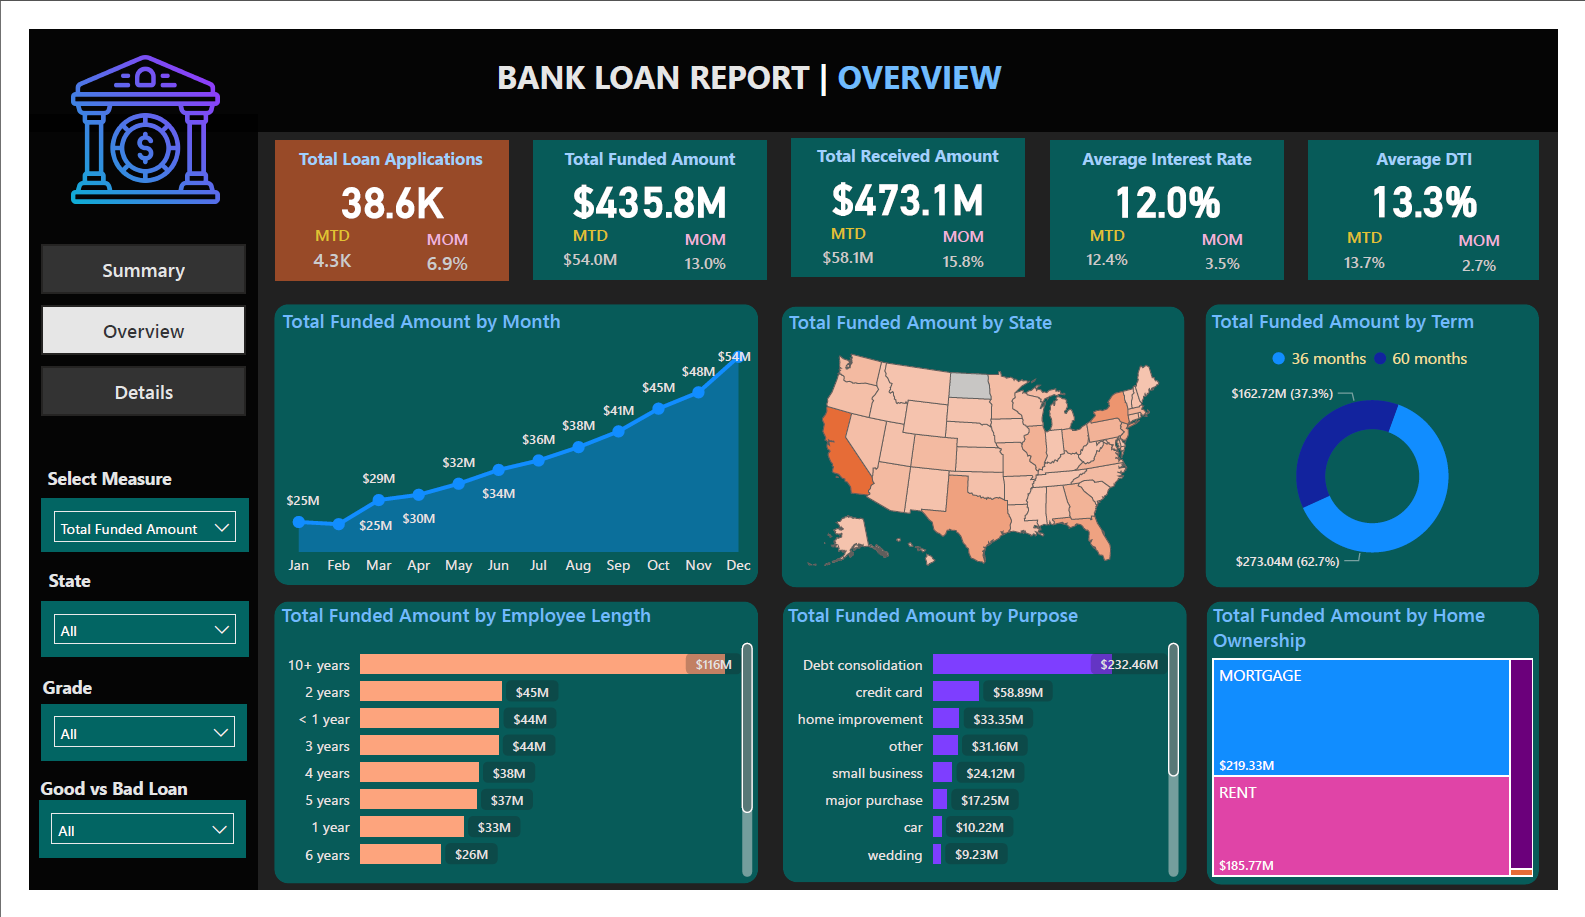

This screenshot's page, from the dashboard's own definition file:
{"tool":"powerbi","page":{"name":"Overview","canvas":[1280,720],"ordinal":1},"visuals":[{"type":"shape","box":[0,70.7,191.4,649.1],"z":0},{"type":"shape","box":[638.4,91.4,194.5,116.4],"z":0,"group":"g3"},{"type":"shape","box":[422.1,92.8,194.5,116.4],"z":0,"group":"g2"},{"type":"shape","box":[854.7,92.8,194.5,116.4],"z":0,"group":"g4"},{"type":"shape","box":[205.8,93.1,194.5,116.4],"z":0,"group":"g1"},{"type":"shape","box":[1070.9,93.2,192.6,116],"z":0,"group":"g5"},{"type":"slicer","fields":{"Values":["financial_loan.address_state"]},"box":[9.7,478.5,172.6,46.6],"z":0,"group":"g6"},{"type":"slicer","fields":{"Values":["financial_loan.grade"]},"box":[9.6,564.4,172.6,46.6],"z":0,"group":"g7"},{"type":"slicer","fields":{"Values":["financial_loan.Good v Bad Loan"]},"box":[8.6,646.7,172.6,46.6],"z":0,"group":"g8"},{"type":"shape","box":[0,0,1280.6,85],"z":1000},{"type":"card","fields":{"Values":["financial_loan.Avg DTI"]},"box":[1070.9,117.7,193.2,47.9],"z":1000,"group":"g5"},{"type":"card","fields":{"Values":["financial_loan.Total Amount Receieved"]},"box":[638.4,118.8,194.5,42.5],"z":1000,"group":"g3"},{"type":"card","fields":{"Values":["financial_loan.Total Loan Amount"]},"box":[422.1,120.2,194.5,42.5],"z":1000,"group":"g2"},{"type":"card","fields":{"Values":["financial_loan.Average interest rate"]},"box":[854.7,120.2,194.5,42.5],"z":1000,"group":"g4"},{"type":"card","fields":{"Values":["financial_loan.Total Loan Applications"]},"box":[205.8,120.5,194.5,42.5],"z":1000,"group":"g1"},{"type":"textbox","box":[10.3,445.7,54.8,32.9],"z":1000,"group":"g6"},{"type":"textbox","box":[6.1,534.5,60.3,30.1],"z":1000,"group":"g7"},{"type":"textbox","box":[4.3,620.4,152.9,35.7],"z":1000,"group":"g8"},{"type":"textbox","box":[638.4,91.4,194.5,28.8],"z":2000,"group":"g3"},{"type":"textbox","box":[422.1,92.8,194.5,28.8],"z":2000,"group":"g2"},{"type":"textbox","box":[854.7,92.8,194.5,28.8],"z":2000,"group":"g4"},{"type":"textbox","box":[206,93,193.2,28.8],"z":2000,"group":"g1"},{"type":"textbox","box":[1070.9,93.6,194,33.9],"z":2000,"group":"g5"},{"type":"textbox","box":[10.1,359.6,123.3,32.9],"z":2000,"group":"g9"},{"type":"card","title":"MTD","fields":{"Values":["financial_loan.MTD amount receieved"]},"box":[656.2,161.3,58.9,45.2],"z":3000,"group":"g3"},{"type":"card","title":"MTD","fields":{"Values":["financial_loan.MTD funded amount"]},"box":[439.9,162.7,58.9,45.2],"z":3000,"group":"g2"},{"type":"card","title":"MTD","fields":{"Values":["financial_loan.MTD avg int rate"]},"box":[872.5,162.7,58.9,45.2],"z":3000,"group":"g4"},{"type":"card","title":"MTD","fields":{"Values":["financial_loan.MTD loan applications"]},"box":[223.6,163,58.9,45.2],"z":3000,"group":"g1"},{"type":"card","title":"MTD","fields":{"Values":["financial_loan.MTD AVG DTI"]},"box":[1088.5,164.9,58.3,41.9],"z":3000,"group":"g5"},{"type":"shape","box":[205.5,230.1,405,235],"z":3000},{"type":"textbox","box":[386.3,16.4,506.8,52.1],"z":4000},{"type":"card","title":"MOM","fields":{"Values":["financial_loan.MOM amount receieved"]},"box":[758.9,164,46.6,43.8],"z":4000,"group":"g3"},{"type":"card","title":"MOM","fields":{"Values":["financial_loan.MOM Funded amount"]},"box":[542.6,165.4,46.6,43.8],"z":4000,"group":"g2"},{"type":"card","title":"MOM","fields":{"Values":["financial_loan.MOM avg int rate"]},"box":[975.2,165.4,46.6,43.8],"z":4000,"group":"g4"},{"type":"card","title":"MOM","fields":{"Values":["financial_loan.MOM loan applications"]},"box":[326.3,165.7,46.6,43.8],"z":4000,"group":"g1"},{"type":"card","title":"MOM","fields":{"Values":["financial_loan.MOM AVG DTI"]},"box":[1191,167.3,45.7,45.7],"z":4000,"group":"g5"},{"type":"group","id":"g1","title":"Group 1","box":[205.8,93,194.5,116.6],"z":5000},{"type":"group","id":"g2","title":"Group 1","box":[422.1,92.8,194.5,116.4],"z":6000},{"type":"group","id":"g3","title":"Group 1","box":[638.4,91.4,194.5,116.4],"z":7000},{"type":"group","id":"g4","title":"Group 1","box":[854.7,92.8,194.5,116.4],"z":8000},{"type":"group","id":"g5","title":"Group 1","box":[1070.9,93.2,194,119.8],"z":9000},{"type":"group","id":"g6","title":"Group 2","box":[9.7,445.7,172.6,79.4],"z":10000},{"type":"group","id":"g7","title":"Group 2","box":[6.1,534.5,176.1,76.5],"z":11000},{"type":"group","id":"g8","title":"Group 2","box":[4.3,620.4,176.9,72.9],"z":12000},{"type":"areaChart","fields":{"Y":["financial_loan.Total Funded Amount"],"Category":["Date Table.Month"]},"box":[206.8,232.9,405.5,232.9],"z":13000},{"type":"slicer","fields":{"Values":["Select Measure.Select Measure"]},"box":[10.1,392.5,172.6,43.8],"z":14000,"group":"g9"},{"type":"shape","box":[629.5,231.6,337.7,235.2],"z":15000},{"type":"shape","box":[985.3,230.4,278.6,236.4],"z":16000},{"type":"donutChart","fields":{"Y":["financial_loan.Total Funded Amount"],"Category":["financial_loan.term"]},"box":[985.3,232.8,278.6,231.6],"z":17000},{"type":"shapeMap","fields":{"Value":["financial_loan.Total Funded Amount"],"Category":["financial_loan.address_state"]},"box":[630.8,234,336.5,230.4],"z":18000},{"type":"shape","box":[205,478.8,405.2,236.4],"z":19000},{"type":"barChart","fields":{"Y":["financial_loan.Total Funded Amount"],"Category":["financial_loan.emp_length"]},"box":[205.7,478.6,404.3,235.7],"z":20000},{"type":"shape","box":[631.4,478.6,337.1,235.7],"z":21000},{"type":"barChart","fields":{"Y":["financial_loan.Total Funded Amount"],"Category":["financial_loan.purpose"]},"box":[630,478.6,337.1,235.7],"z":22000},{"type":"shape","box":[985.7,478.6,278.6,237.1],"z":23000},{"type":"treemap","fields":{"Values":["financial_loan.Total Funded Amount"],"Group":["financial_loan.home_ownership"]},"box":[985.7,478.6,278.6,235.7],"z":24000},{"type":"pageNavigator","box":[10,180,171.4,142.9],"z":25000},{"type":"image","box":[30,17.1,134.3,134.3],"z":26000},{"type":"group","id":"g9","title":"Group 3","box":[10.1,359.6,172.6,76.7],"z":26001}]}

Visuals, with their boxes in screenshot pixels (x1, y1, x2, y2), scaled from the page's 1280x720 canvas onto the 1585x917 screenshot:
shape: 0/90/237/916
shape: 791/116/1031/265
shape: 523/118/764/266
shape: 1058/118/1299/266
shape: 255/119/496/267
shape: 1326/119/1565/266
slicer - financial_loan.address_state: 12/609/226/669
slicer - financial_loan.grade: 12/719/226/778
slicer - financial_loan.Good v Bad Loan: 11/824/224/883
shape: 0/0/1584/108
card - financial_loan.Avg DTI: 1326/150/1565/211
card - financial_loan.Total Amount Receieved: 791/151/1031/205
card - financial_loan.Total Loan Amount: 523/153/764/207
card - financial_loan.Average interest rate: 1058/153/1299/207
card - financial_loan.Total Loan Applications: 255/153/496/208
textbox: 13/568/81/610
textbox: 8/681/82/719
textbox: 5/790/195/836
textbox: 791/116/1031/153
textbox: 523/118/764/155
textbox: 1058/118/1299/155
textbox: 255/118/494/155
textbox: 1326/119/1566/162
textbox: 13/458/165/500
"MTD" card: 813/205/885/263
"MTD" card: 545/207/618/265
"MTD" card: 1080/207/1153/265
"MTD" card: 277/208/350/265
"MTD" card: 1348/210/1420/263
shape: 254/293/756/592
textbox: 478/21/1106/87
"MOM" card: 940/209/997/265
"MOM" card: 672/211/730/266
"MOM" card: 1208/211/1265/266
"MOM" card: 404/211/462/267
"MOM" card: 1475/213/1531/271
"Group 1" group: 255/118/496/267
"Group 1" group: 523/118/764/266
"Group 1" group: 791/116/1031/265
"Group 1" group: 1058/118/1299/266
"Group 1" group: 1326/119/1566/271
"Group 2" group: 12/568/226/669
"Group 2" group: 8/681/226/778
"Group 2" group: 5/790/224/883
areaChart - financial_loan.Total Funded Amount x Date Table.Month: 256/297/758/593
slicer - Select Measure.Select Measure: 13/500/226/556
shape: 779/295/1198/595
shape: 1220/293/1565/595
donutChart - financial_loan.Total Funded Amount x financial_loan.term: 1220/296/1565/591
shapeMap - financial_loan.Total Funded Amount x financial_loan.address_state: 781/298/1198/591
shape: 254/610/756/911
barChart - financial_loan.Total Funded Amount x financial_loan.emp_length: 255/610/755/910
shape: 782/610/1199/910
barChart - financial_loan.Total Funded Amount x financial_loan.purpose: 780/610/1198/910
shape: 1221/610/1566/912
treemap - financial_loan.Total Funded Amount x financial_loan.home_ownership: 1221/610/1566/910
pageNavigator: 12/229/225/411
image: 37/22/203/193
"Group 3" group: 13/458/226/556
